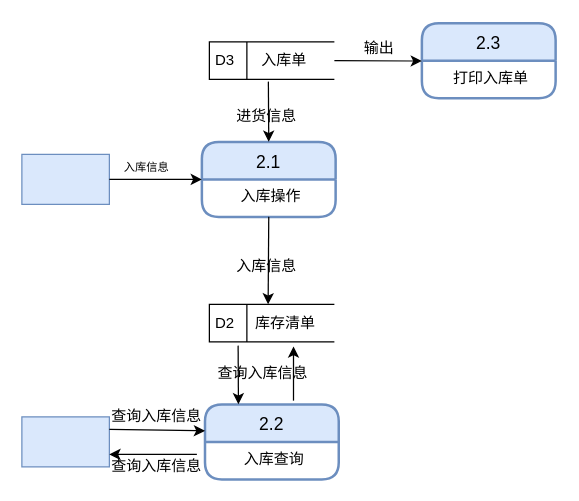
The diagram is 579 pixels wide and 501 high, and some of its shapes have lost their labels. The shapes that lost their labels are listed below. From the top down, each one's centre as x and y in pixels, then its label:
(65,178): 管理员
(65,441): 用户
